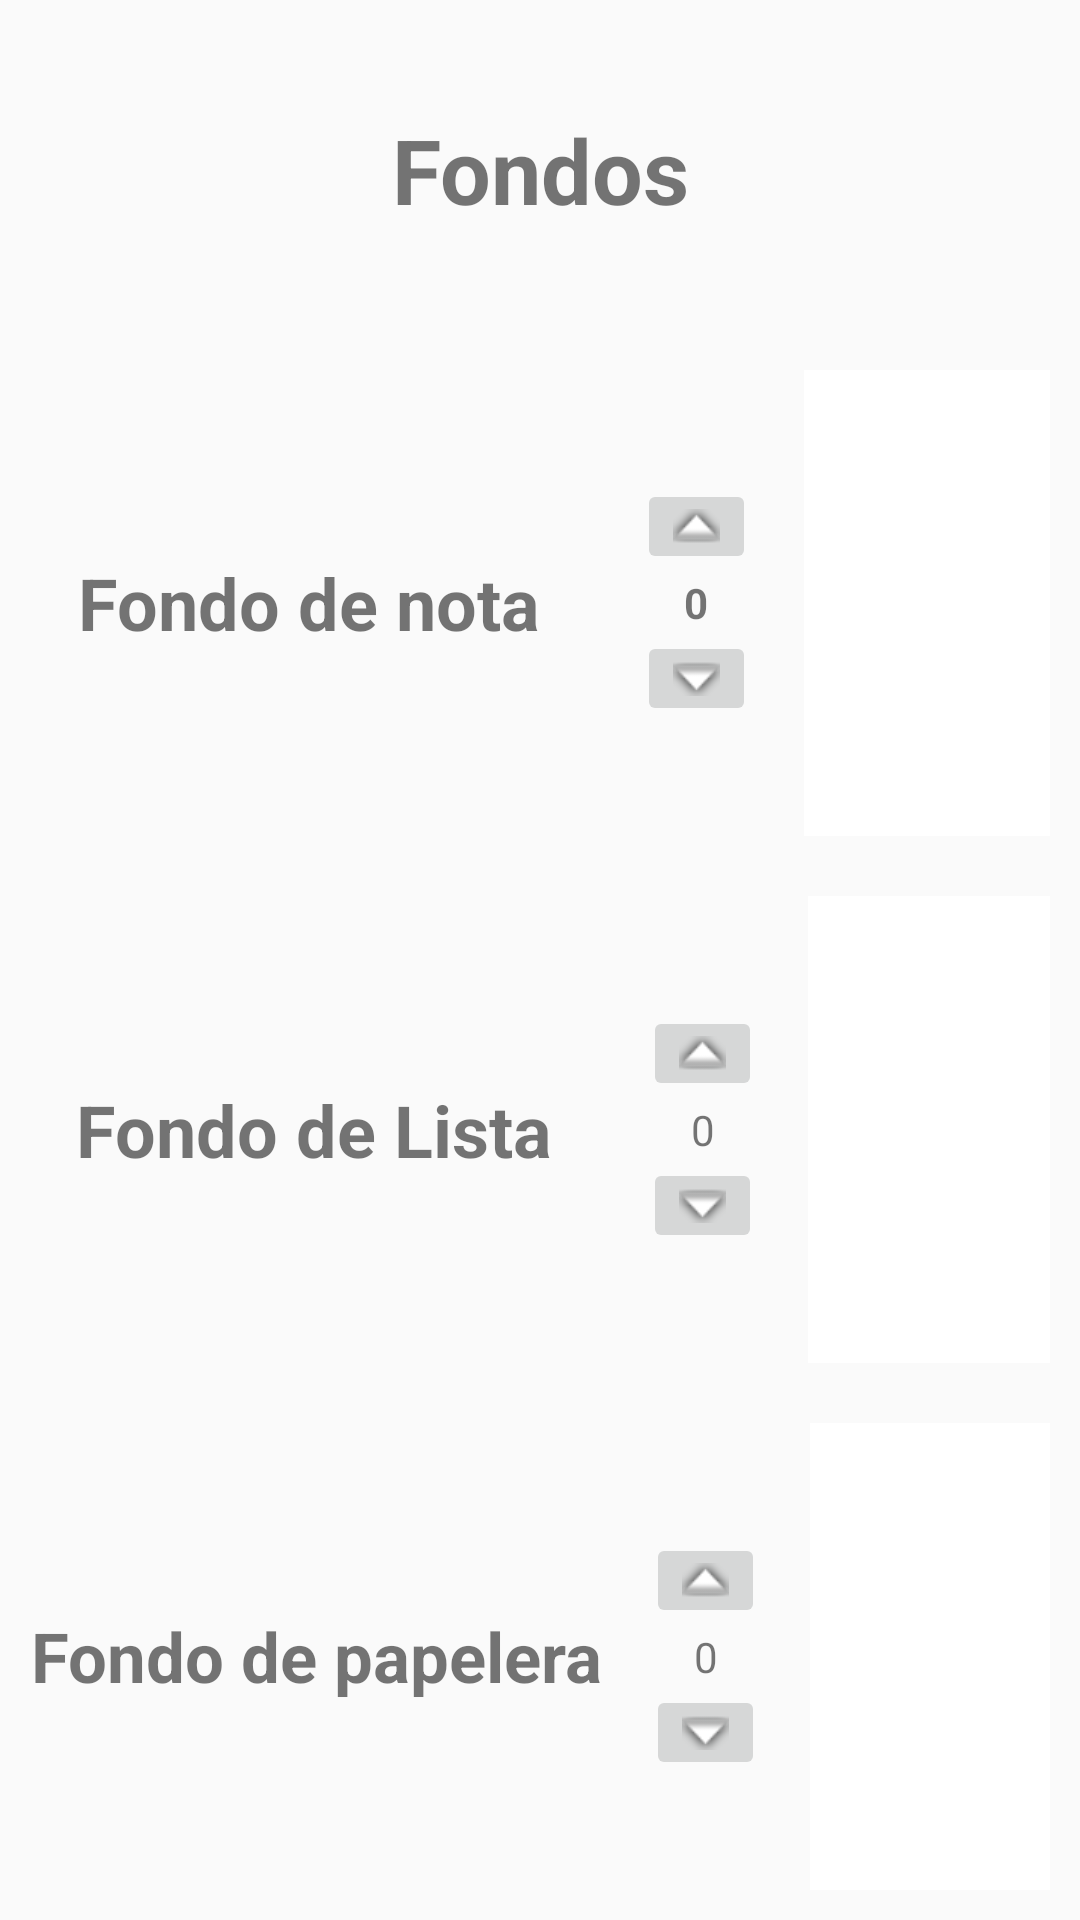

Where to tap for icons on this 1080 × 1920 app screen, as (x,y):
arrow down float: (696,678), (702,1205), (705,1732)
arrow up float: (696,526), (702,1053), (705,1580)
